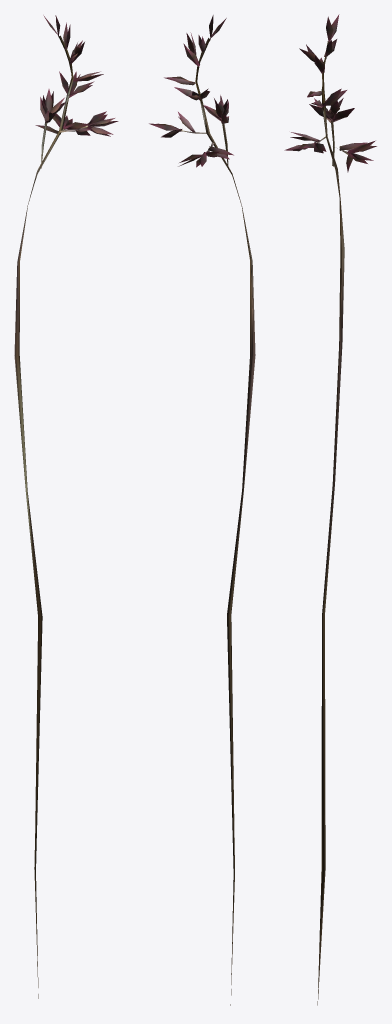
Rendered from trees-grasses-flowering-grass_v2.glb.
The picture shows the model from 3 angles, left to right: view 1: azimuth 30°, elevation 25°; view 2: azimuth 210°, elevation 25°; view 3: azimuth 270°, elevation 25°; orthographic projection.
Visible parts, largest first — view 1: Flowering Grass_v2; view 2: Flowering Grass_v2; view 3: Flowering Grass_v2.
Part boxes in pixels (<box>): Flowering Grass_v2: <box>14,15,118,998</box>; Flowering Grass_v2: <box>149,15,255,1005</box>; Flowering Grass_v2: <box>284,14,376,1005</box>.
Size of the model in its own units: 0.0722 by 0.8 by 0.0673.
